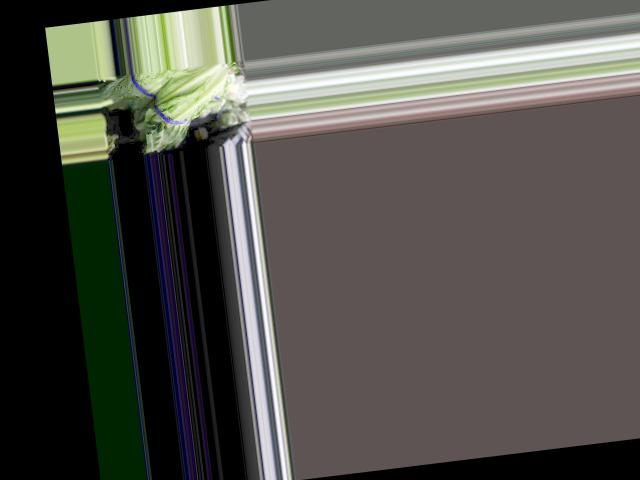lettuce: (130, 62, 231, 148)
